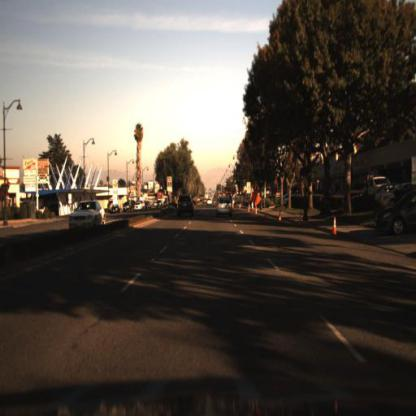car: (378, 190, 416, 239), (70, 200, 108, 238), (174, 192, 197, 219), (216, 197, 232, 218), (134, 196, 144, 216), (122, 201, 135, 214), (121, 201, 133, 215), (110, 204, 122, 216)
truck: (353, 173, 389, 195)
